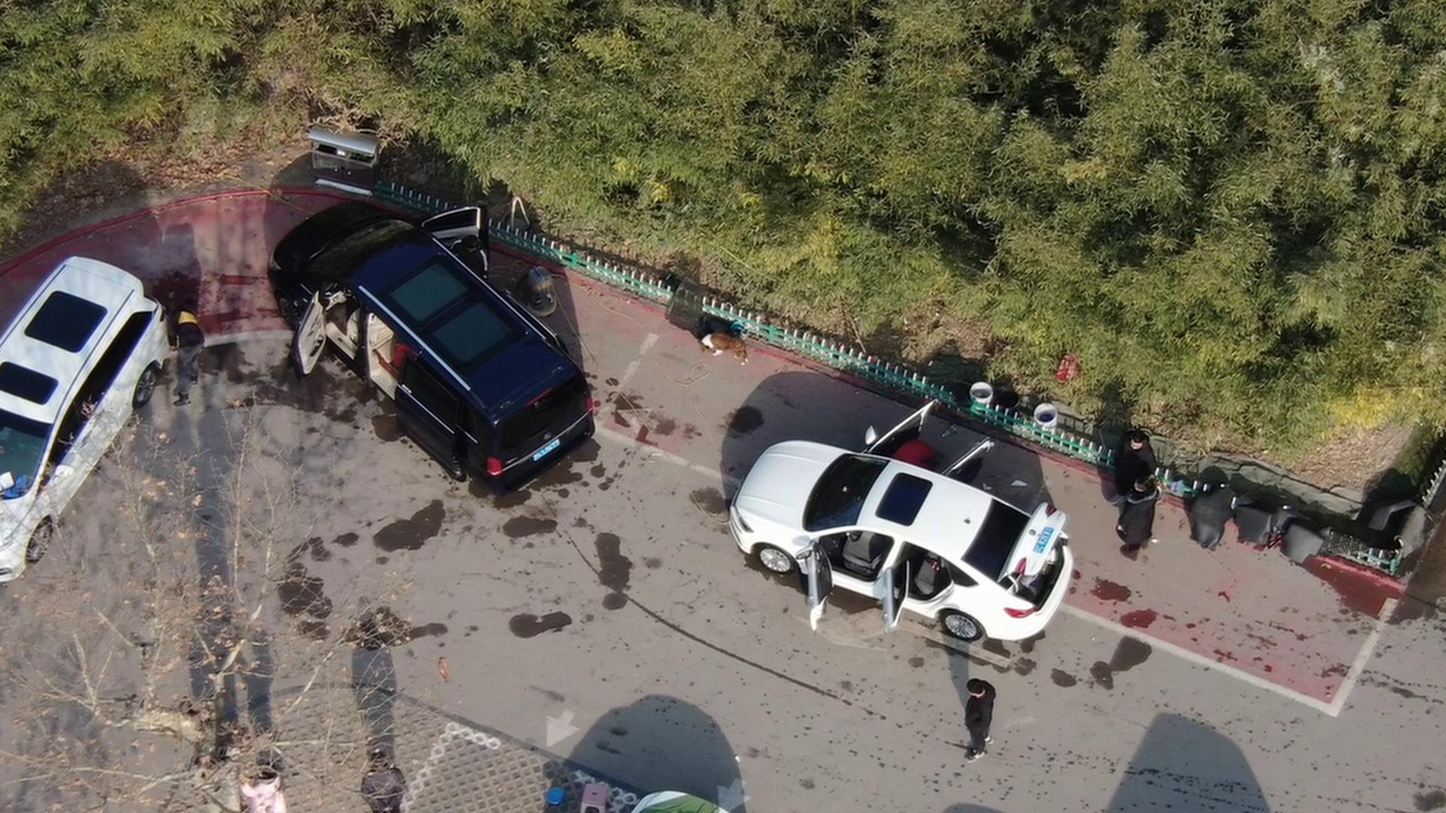human: (166, 296, 212, 413), (1109, 474, 1164, 562), (955, 665, 999, 761), (1108, 425, 1152, 506)
